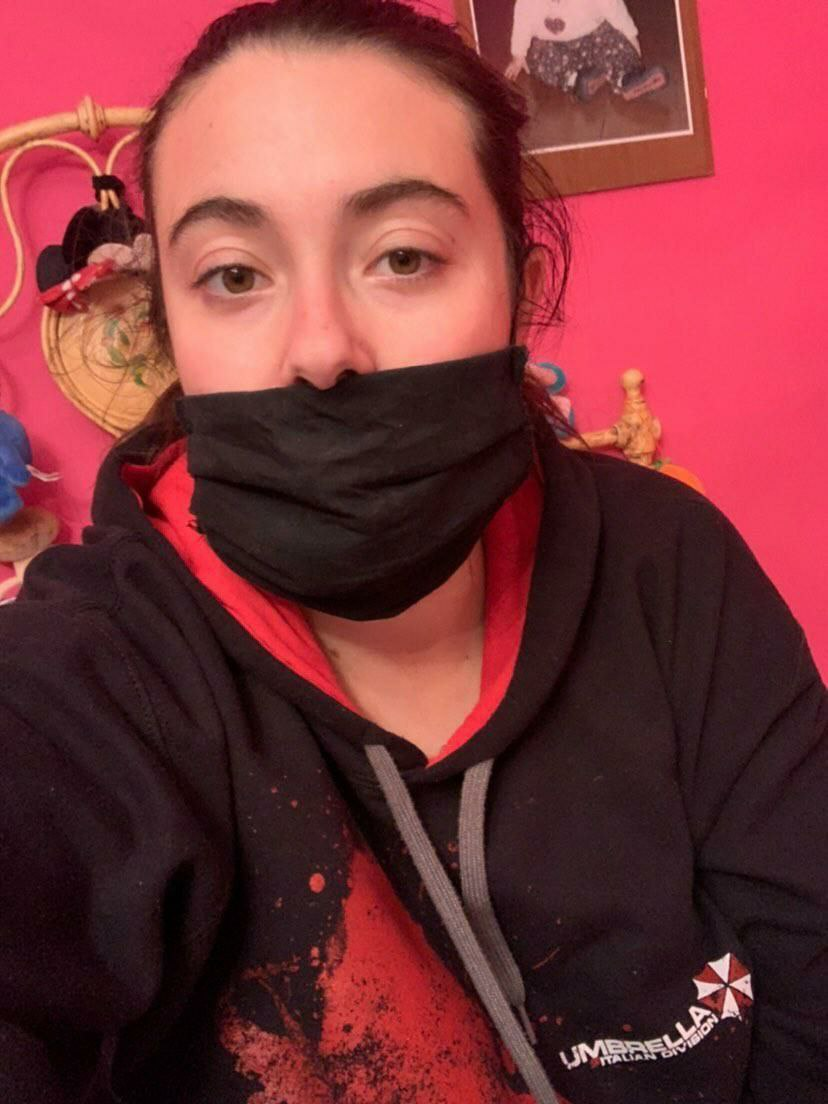with_incorrect_mask: (144, 5, 550, 610)
